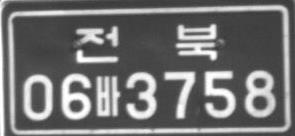0: (23, 73, 53, 120)
3: (125, 71, 157, 119)
5: (203, 70, 236, 119)
6: (61, 72, 92, 120)
7: (164, 69, 196, 120)
8: (244, 69, 276, 118)
바: (96, 76, 121, 116)
전북_D: (74, 23, 217, 63)
